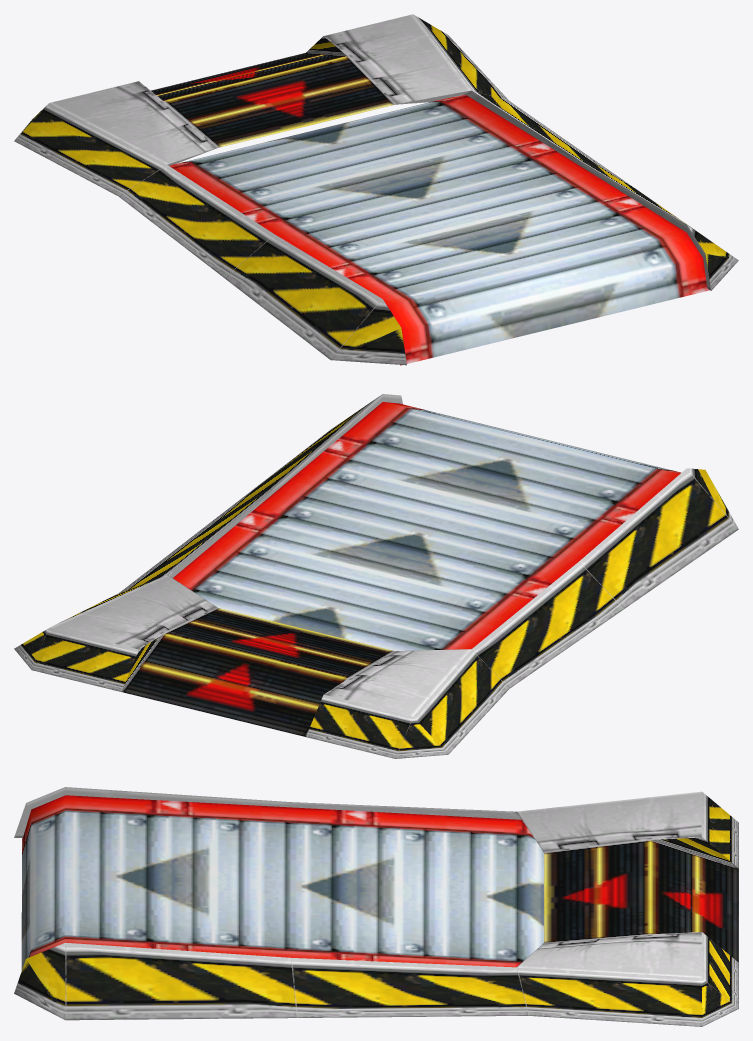
File: Dashpad.obj
3 views of the same model, one above another, from view 1: azimuth 30°, elevation 25°; view 2: azimuth 150°, elevation 25°; view 3: azimuth 270°, elevation 25° (orthographic). The views are drawn at different scales.
Size of the model in its own units: 20 by 2.24 by 27.55.
Materials: 2 (2 with a texture image).
